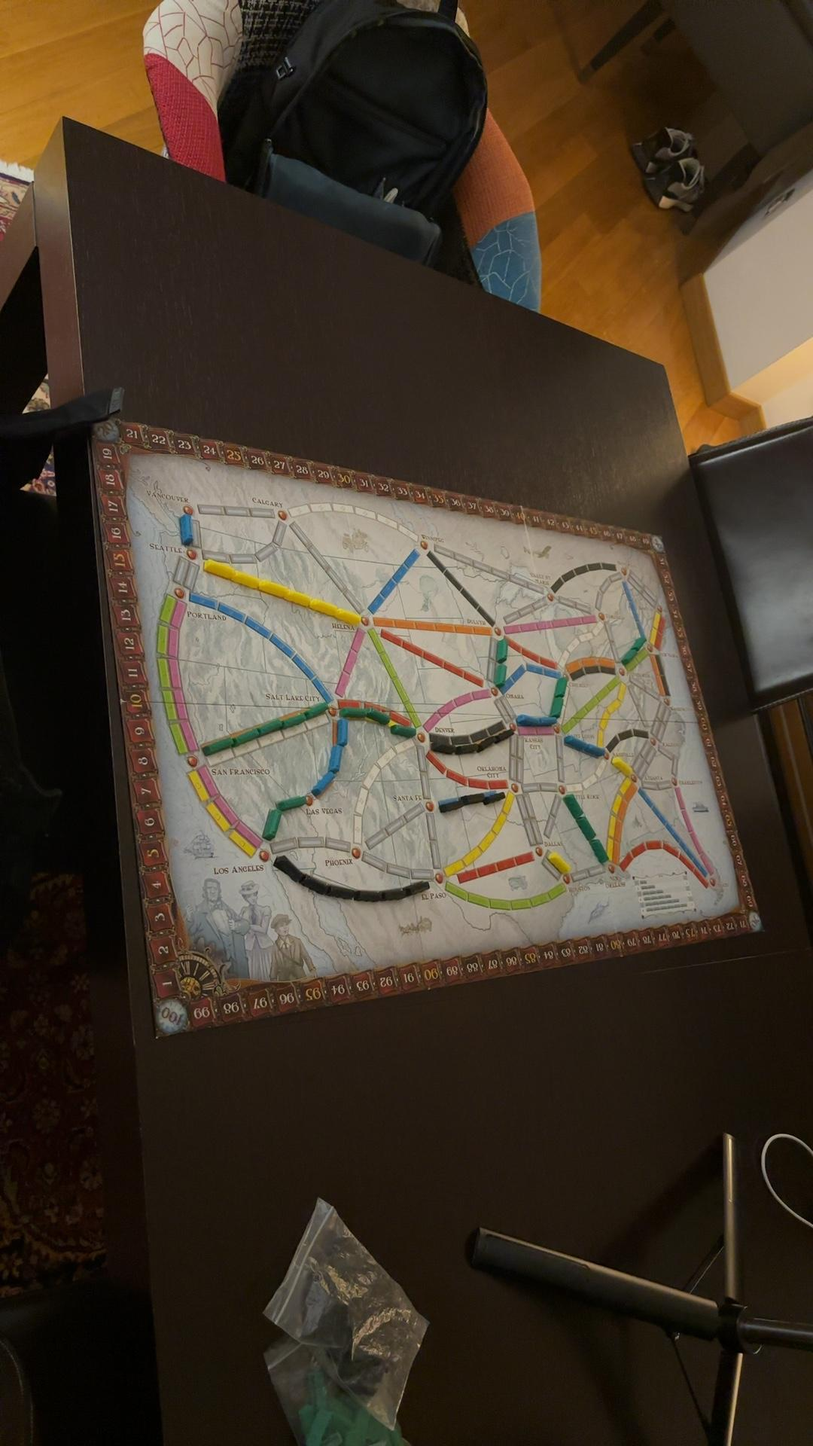blue_train: (313, 773, 333, 795), (328, 744, 342, 773), (180, 513, 192, 546), (336, 720, 348, 746)
green_train: (262, 807, 282, 839), (202, 736, 233, 755), (277, 795, 306, 810), (232, 729, 259, 745), (261, 720, 288, 735), (366, 708, 390, 724), (305, 703, 328, 717), (391, 725, 415, 737), (495, 663, 506, 688), (340, 708, 366, 718), (497, 638, 507, 663)
yellow_train: (547, 852, 571, 875), (613, 758, 635, 779)
